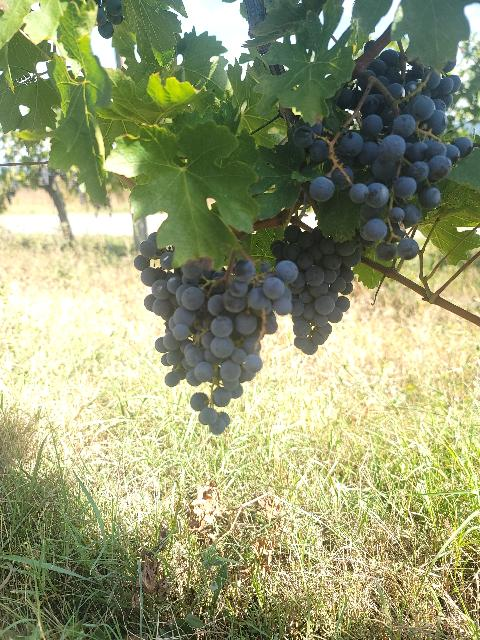grapes: (185, 261, 290, 435), (332, 121, 441, 261), (271, 225, 360, 354), (134, 232, 204, 386), (368, 49, 460, 135)
